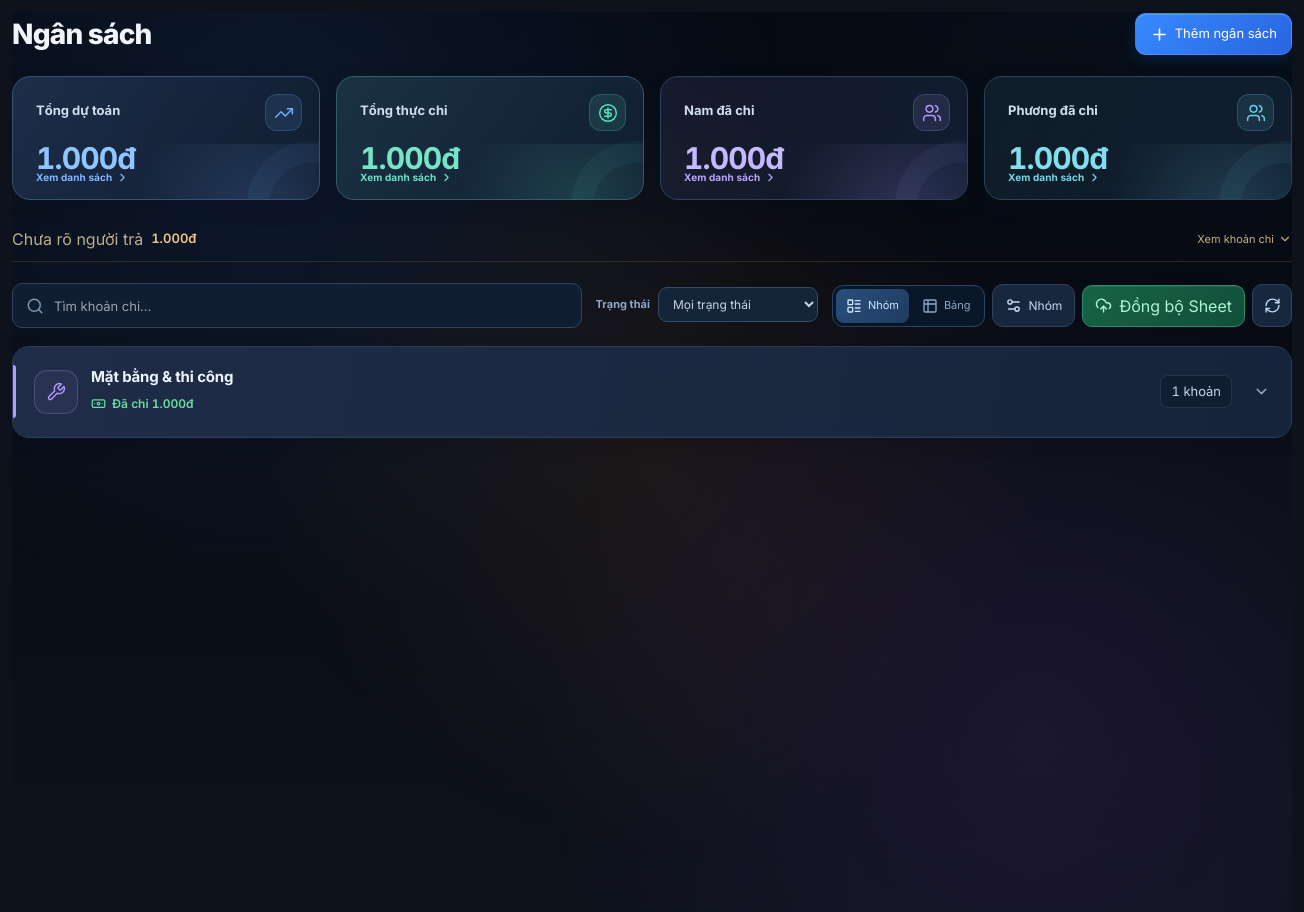
Scenario: Checklist and Budget interactions › waits for all reloads, blocks duplicate clicks and confirms successful sync
This screenshot has width=1304, height=912.
Click the button named "Tải lại dữ liệu" at (1272,306), box [1252, 284, 1292, 327]
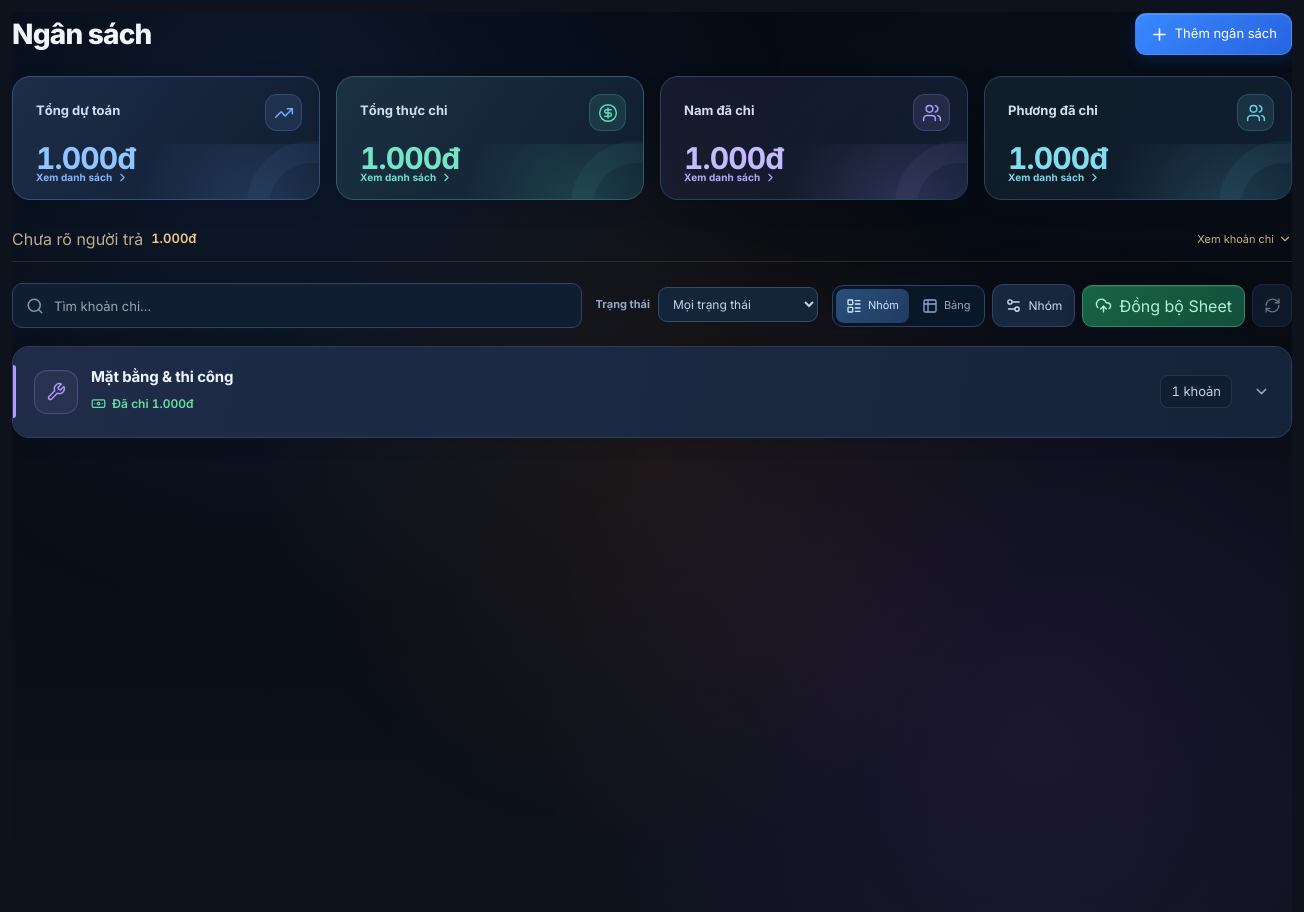
Check: the button named "Đang đồng bộ dữ liệu" is disabled
Click the button named "Đang đồng bộ dữ liệu" at (1272,306), box [1252, 284, 1292, 327]
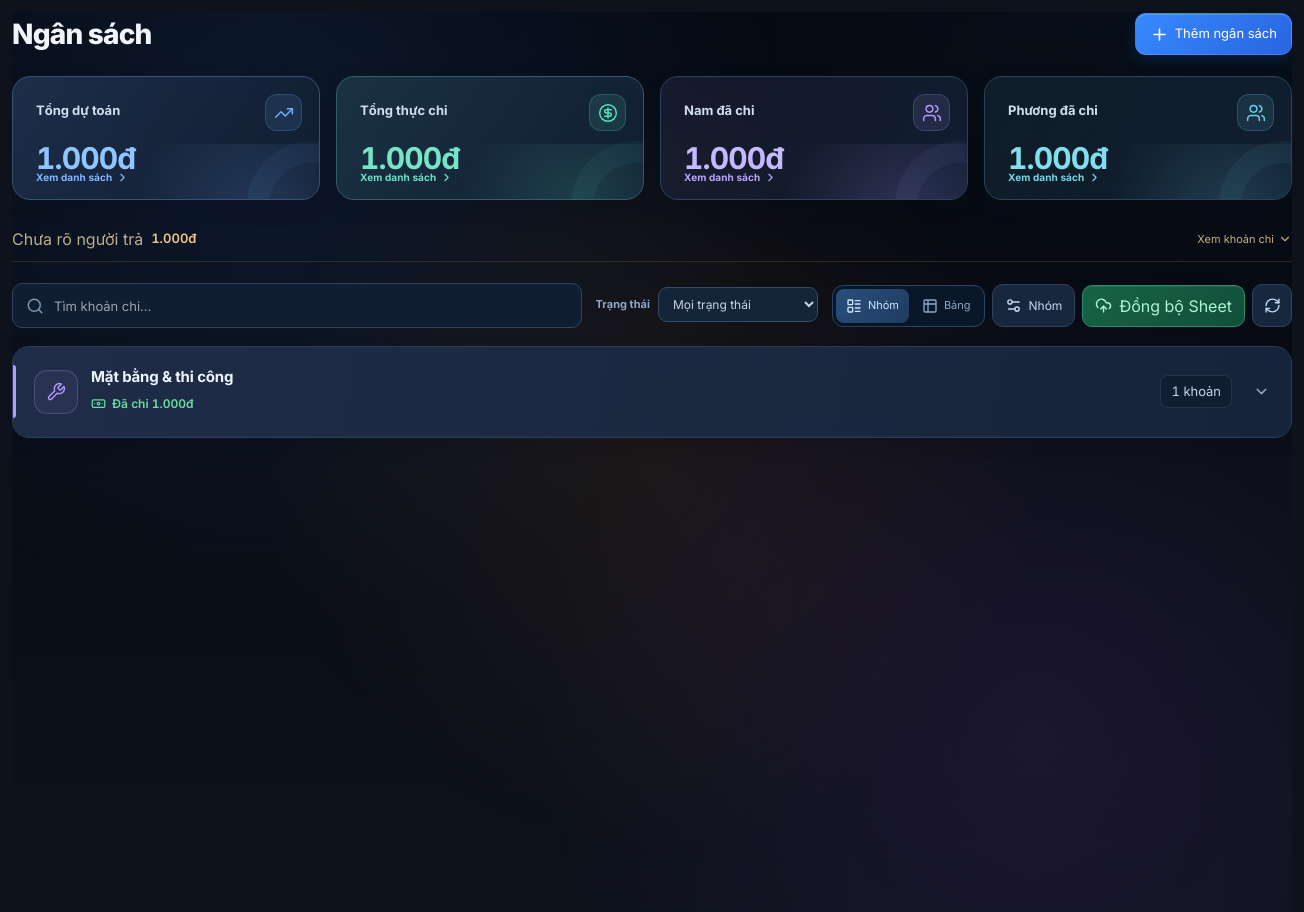
Check: the button named "Tải lại dữ liệu" is enabled, box [1252, 284, 1292, 327]
